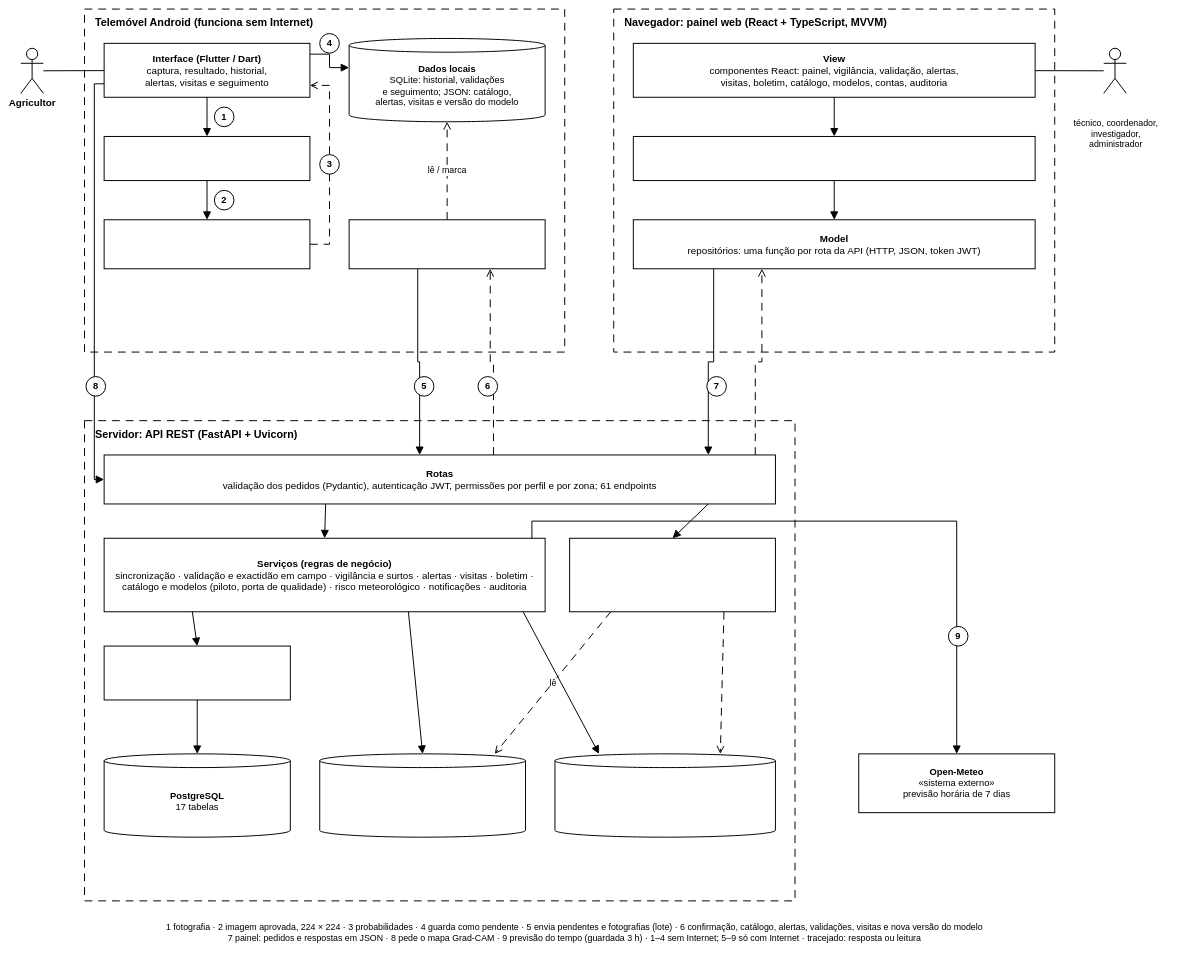
The diagram is 1180 pixels wide and 963 high, and some of its shapes have lost their labels. The shapes that lost their labels are listed below. From the top down, each one's centre as x and y in pixels, then its label:
At pixel 1115 71: "Equipa".
At pixel 206 158: "Verificação da fotografia nitidez e luz; várias fotos por caso".
At pixel 834 158: "ViewModel hooks: estado de cada ecrã e cache dos pedidos (TanStack Query)".
At pixel 206 244: "Modelos TFLite INT8 milho e mandioca (4,35 MB cada)".
At pixel 446 244: "Sincronização UUID, token JWT, verificação SHA-256".
At pixel 672 575: "Serviço Grad-CAM TensorFlow / Keras (.keras)".
At pixel 197 672: "Repositórios SQLAlchemy 2 (assíncrono); migrações Alembic".
At pixel 422 795: "Fotografias sincronizadas e de referência".
At pixel 665 795: "Modelos publicados .tflite + SHA-256; .keras".
